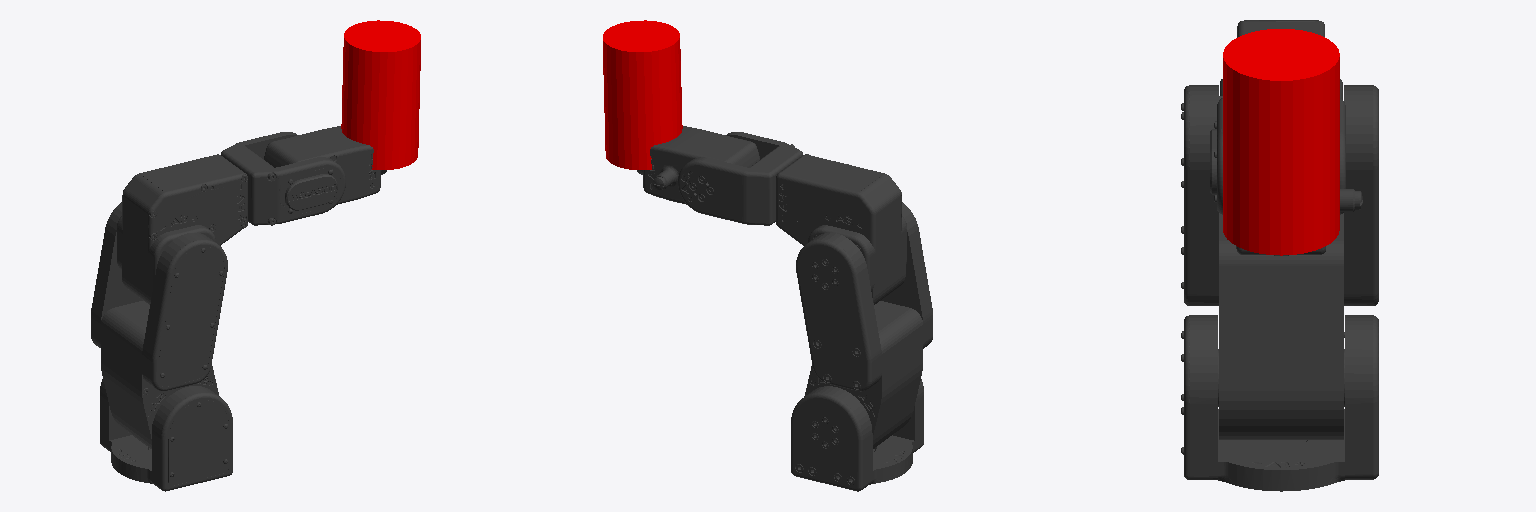
The robot description file, URDF, robot "meca_500_r3":
<?xml version='1.0' encoding='utf-8'?>
<robot name="meca_500_r3">

  
  <material name="meca_black">
    <color rgba="0 0 0 1" />
  </material>
  <material name="meca_silver">
    <color rgba="0.3 0.3 0.3 1" />
  </material>

  
  
  
  <link name="world" />
  <joint name="meca_in_world" type="fixed">
    
    <origin xyz="0 0 0.0" rpy="0 0 0" />
    <parent link="world" />
    <child link="meca_base_link" />
    <axis xyz="0 0 1" />    
  </joint>

  
  <link name="meca_base_link">
    <visual>
      <origin xyz="0 0 0" rpy="0 0 0" />
      <geometry>
        <mesh filename="meshes/meca_500_r3_base.dae" />
      </geometry>
      <material name="meca_black" />
    </visual>
    <collision>
      <origin xyz="0 0 0" rpy="0 0 0" />
      <geometry>
        <mesh filename="meshes/meca_500_r3_base_collision.stl" />
      </geometry>
    </collision>
  </link>

  
  <link name="meca_axis_1_link">
    <visual>
      <origin xyz="0 0 0" rpy="0 0 0" />
      <geometry>
        <mesh filename="meshes/meca_500_r3_j1.dae" />
      </geometry>
      <material name="meca_silver" />
    </visual>
    <collision>
      <origin xyz="0 0 0" rpy="0 0 0" />
      <geometry>
        <mesh filename="meshes/meca_500_r3_j1_collision.stl" />
      </geometry>
    </collision>
  </link>

  <joint name="meca_axis_1_joint" type="revolute">
    <origin xyz="0.012498 0 0.091" rpy="0 0 0" />
    <parent link="meca_base_link" />
    <child link="meca_axis_1_link" />
    <axis xyz="0 0 1" />
    <limit effort="10.0" velocity="2.61799" lower="-3.05433" upper="3.05433" />
  </joint>

  
  <link name="meca_axis_2_link">
    <visual>
      <origin xyz="0 0 0" rpy="0 0 0" />
      <geometry>
        <mesh filename="meshes/meca_500_r3_j2.dae" />
      </geometry>
      <material name="meca_silver" />
    </visual>
    <collision>
      <origin xyz="0 0 0" rpy="0 0 0" />
      <geometry>
        <mesh filename="meshes/meca_500_r3_j2_collision.stl" />
      </geometry>
    </collision>
  </link>

  <joint name="meca_axis_2_joint" type="revolute">
    <origin xyz="0 0 0.044" rpy="0 0 0" />
    <parent link="meca_axis_1_link" />
    <child link="meca_axis_2_link" />
    <axis xyz="0 1 0" />
    <limit effort="10.0" velocity="2.61799" lower="-1.22173048" upper="1.5708" />
  </joint>

  
  <link name="meca_axis_3_link">
    <visual>
      <origin xyz="0 0 0" rpy="0 0 0" />
      <geometry>
        <mesh filename="meshes/meca_500_r3_j3.dae" />
      </geometry>
      <material name="meca_silver" />
    </visual>
    <collision>
      <origin xyz="0 0 0" rpy="0 0 0" />
      <geometry>
        <mesh filename="meshes/meca_500_r3_j3_collision.stl" />
      </geometry>
    </collision>
  </link>

  <joint name="meca_axis_3_joint" type="revolute">
    <origin xyz="0 0 0.135" rpy="0 0 0" />
    <parent link="meca_axis_2_link" />
    <child link="meca_axis_3_link" />
    <axis xyz="0 1 0" />
    <limit effort="10.0" velocity="3.14159" lower="-2.35619" upper="1.22173048" />
  </joint>

  
  <link name="meca_axis_4_link">
    <visual>
      <origin xyz="0 0 0" rpy="0 0 0" />
      <geometry>
        <mesh filename="meshes/meca_500_r3_j4.dae" />
      </geometry>
      <material name="meca_silver" />
    </visual>
    <collision>
      <origin xyz="0 0 0" rpy="0 0 0" />
      <geometry>
        <mesh filename="meshes/meca_500_r3_j4_collision.stl" />
      </geometry>
    </collision>
  </link>

  <joint name="meca_axis_4_joint" type="revolute">
    <origin xyz="0 0 0.038" rpy="0 0 0" />
    <parent link="meca_axis_3_link" />
    <child link="meca_axis_4_link" />
    <axis xyz="1 0 0" />
    <limit effort="10.0" velocity="5.23599" lower="-2.96706" upper="2.96706" />
  </joint>

  
  <link name="meca_axis_5_link">
    <visual>
      <origin xyz="0 0 0" rpy="0 0 0" />
      <geometry>
        <mesh filename="meshes/meca_500_r3_j5.dae" />
      </geometry>
      <material name="meca_silver" />
    </visual>
    <collision>
      <origin xyz="0 0 0" rpy="0 0 0" />
      <geometry>
        <mesh filename="meshes/meca_500_r3_j5_collision.stl" />
      </geometry>
    </collision>
  </link>

  <joint name="meca_axis_5_joint" type="revolute">
    <origin xyz="0.12 0 0" rpy="0 0 0" />
    <parent link="meca_axis_4_link" />
    <child link="meca_axis_5_link" />
    <axis xyz="0 1 0" />
    <limit effort="10.0" velocity="5.23599" lower="-2.00713" upper="2.00713" />
  </joint>

  
  <link name="meca_axis_6_link">
    <visual>
      <origin xyz="0 0 0" rpy="0 0 0" />
      <geometry>
        <mesh filename="meshes/meca_500_r3_j6.dae" />
      </geometry>
      <material name="meca_silver" />
    </visual>
    <collision>
      <origin xyz="0 0 0" rpy="0 0 0" />
      <geometry>
        <mesh filename="meshes/meca_500_r3_j6_collision.stl" />
      </geometry>
    </collision>
  </link>

  <joint name="meca_axis_6_joint" type="revolute">
    <origin xyz="0.07 0 0" rpy="0 0 0" />
    <parent link="meca_axis_5_link" />
    <child link="meca_axis_6_link" />
    <axis xyz="1 0 0" />
    <limit effort="10.0" velocity="8.72665" lower="-3.14159" upper="3.14159" />
  </joint>

<link name="MECA500_1_tool_tool_base_link">
    <visual>
      <geometry>
        <cylinder length="0.1" radius="0.03" />
      </geometry>
      <origin rpy="0 0 0" xyz="0 0 0.05" />
      <material name="red">
        <color rgba="1 0 0 1" />
      </material>
    </visual>
    <collision>
      <geometry>
        <cylinder length="0.1" radius="0.03" />
      </geometry>
      <origin rpy="0 0 0" xyz="0 0 0.05" />
    </collision>
  </link>
  <link name="MECA500_1_tool_tool_tip_link" />
  <joint name="tool_base_to_tip" type="fixed">
    <parent link="MECA500_1_tool_tool_base_link" />
    <child link="MECA500_1_tool_tool_tip_link" />
    <origin rpy="0 0 0" xyz="0 0 0.05" />
  </joint>
<joint name="MECA500_1_tool_attach_joint" type="fixed"><parent link="meca_axis_6_link" /><child link="MECA500_1_tool_tool_base_link" /><origin xyz="0.0 0.0 0.0" rpy="0.0 0.027401669256310976 0.0" /></joint></robot>

--- Facts derived from the render (not from the file) ---
3 views of the same robot in one strip: view 1: azimuth 30°, elevation 25°; view 2: azimuth 150°, elevation 25°; view 3: azimuth 270°, elevation 25° (orthographic).
Robot: meca_500_r3 — 10 links, 9 joints (6 revolute, 3 fixed); root link world; default pose: every joint at zero.
Links seen in each view (by area): view 1: meca_axis_2_link, meca_axis_3_link, MECA500_1_tool_tool_base_link, meca_axis_1_link, meca_axis_4_link, meca_axis_5_link; view 2: meca_axis_2_link, meca_axis_3_link, MECA500_1_tool_tool_base_link, meca_axis_1_link, meca_axis_4_link, meca_axis_5_link; view 3: meca_axis_2_link, MECA500_1_tool_tool_base_link, meca_axis_1_link, meca_axis_4_link, meca_axis_3_link, meca_axis_5_link.
Link boxes in pixels (<box>): meca_axis_2_link: <box>91,202,227,448</box>; meca_axis_3_link: <box>117,154,247,304</box>; MECA500_1_tool_tool_base_link: <box>341,20,420,169</box>; meca_axis_1_link: <box>100,379,232,491</box>; meca_axis_4_link: <box>221,132,345,225</box>; meca_axis_5_link: <box>264,126,386,204</box>; meca_axis_2_link: <box>796,202,932,448</box>; meca_axis_3_link: <box>776,154,906,304</box>; MECA500_1_tool_tool_base_link: <box>603,20,682,169</box>; meca_axis_1_link: <box>791,379,923,491</box>; meca_axis_4_link: <box>678,132,802,225</box>; meca_axis_5_link: <box>637,126,759,204</box>; meca_axis_2_link: <box>1181,85,1378,439</box>; MECA500_1_tool_tool_base_link: <box>1223,29,1339,255</box>; meca_axis_1_link: <box>1181,315,1378,491</box>; meca_axis_4_link: <box>1210,96,1345,214</box>; meca_axis_3_link: <box>1220,20,1342,99</box>; meca_axis_5_link: <box>1236,189,1362,255</box>.
Bounding box of the posed robot: 0.2652 × 0.1014 × 0.3178 m (x, y, z).
6 mesh visuals loaded from 7 distinct referenced files (6 Collada DAE); not drawn: 1 (file found but could not be loaded).
